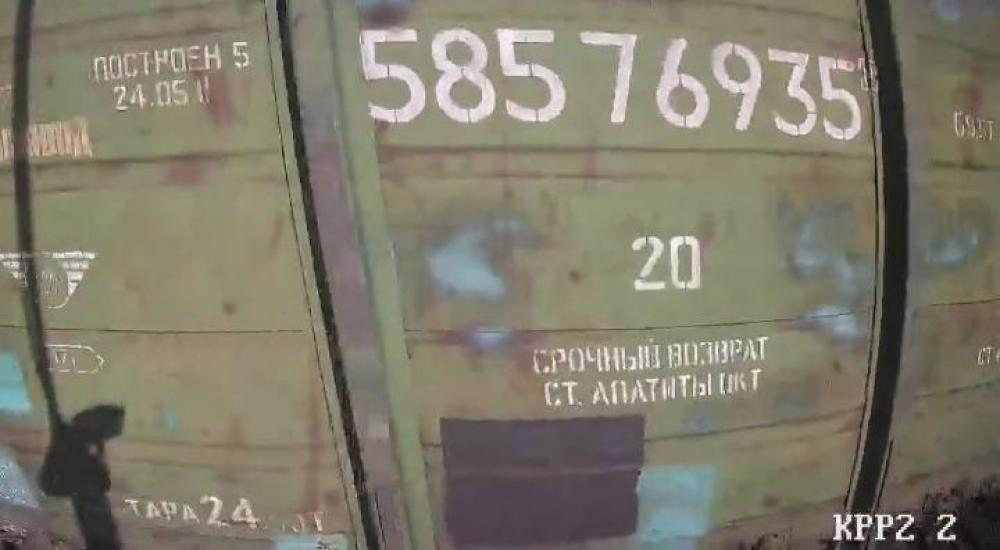Wagon-number: (358, 20, 868, 148)
